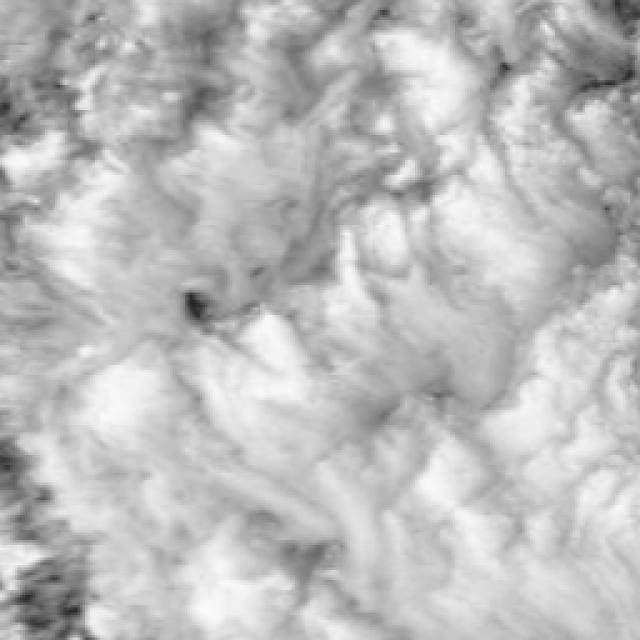CB: (375, 449, 605, 610)
